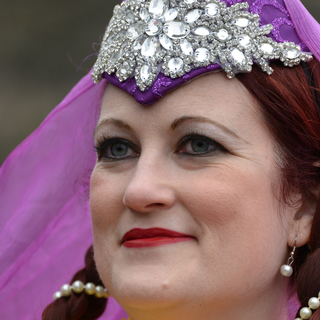eye: (162, 127, 242, 169), (82, 123, 147, 169)
